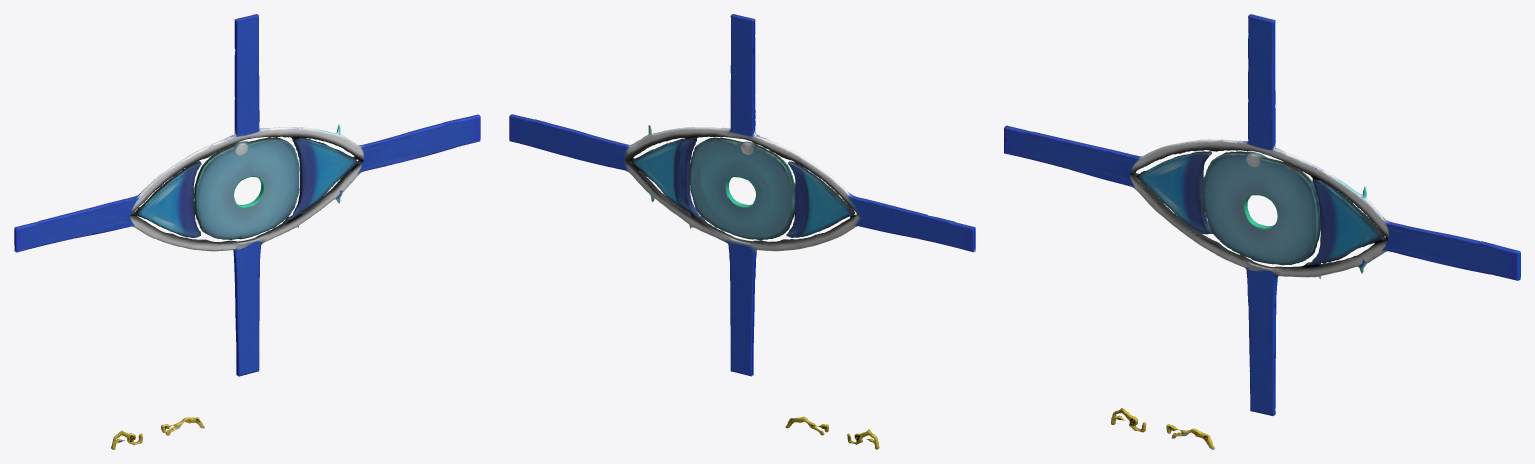
Rendered from DreamOS_Vision_0521095127_texture.glb.
The picture shows the model from 3 angles, left to right: view 1: azimuth 30°, elevation 25°; view 2: azimuth 150°, elevation 25°; view 3: azimuth 330°, elevation 25°; orthographic projection. The views are drawn at different scales.
Bounding box in the file's own units: 2 × 1.65 × 0.0214.
1 material, 1 textured.
